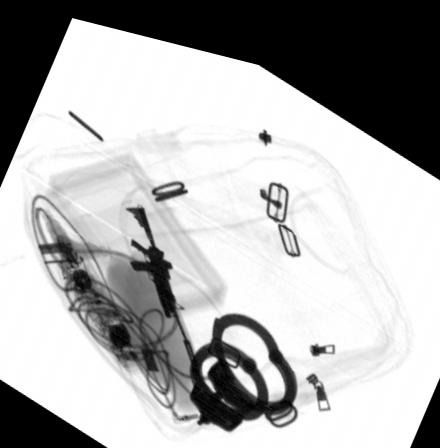Gun: (122, 195, 206, 379)
HandCuffs: (186, 293, 297, 418)
